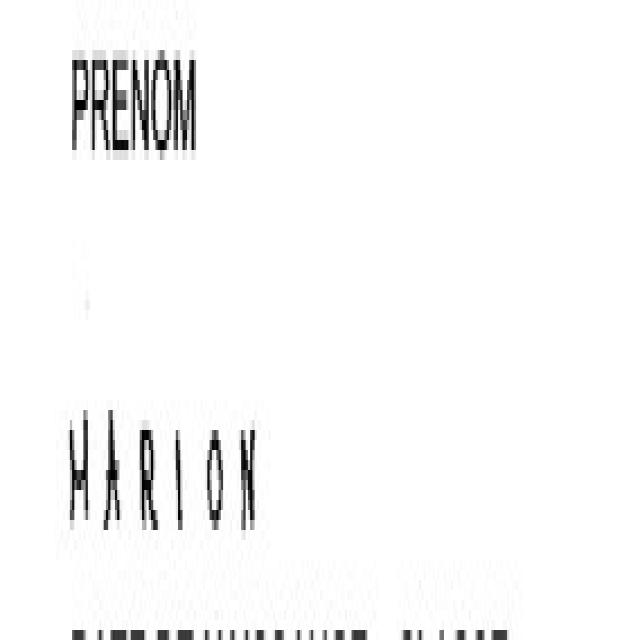A: (99, 363, 131, 582)
H: (61, 341, 94, 555)
I: (168, 381, 193, 587)
N: (236, 375, 261, 575)
O: (200, 369, 231, 571)
R: (133, 386, 164, 566)
